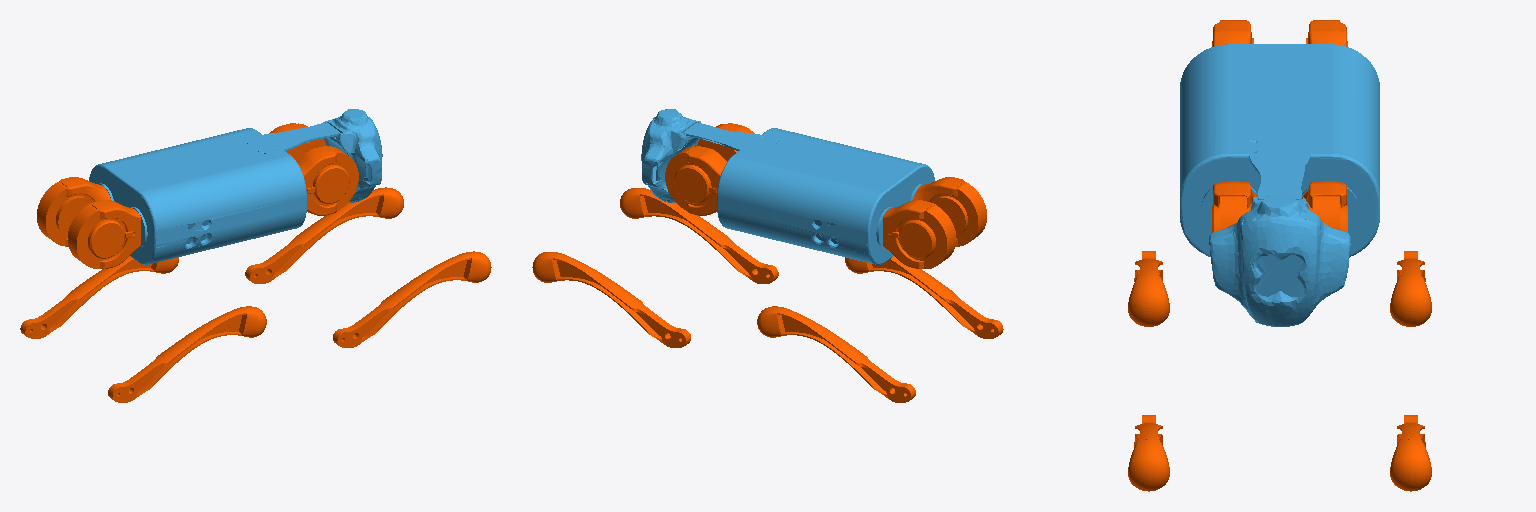
--- What the picture shows (computed from the rendered views, not written in the file) ---
The picture shows the robot from 3 angles, left to right: view 1: azimuth 30°, elevation 25°; view 2: azimuth 150°, elevation 25°; view 3: azimuth 270°, elevation 25°; orthographic projection.
Robot: robot — 19 links, 18 joints (12 revolute, 5 fixed, 1 floating); root link world_base; default pose: joints at zero except 4 at the middle of their limits (FL_calf_joint = -1.85, RL_calf_joint = -1.85, FR_calf_joint = -1.85, RR_calf_joint = -1.85).
Visible links, largest first — view 1: base, RR_hip, RR_calf, FR_calf, FL_calf, FR_hip, RL_calf, RL_hip, FL_hip; view 2: base, RL_hip, RL_calf, FL_calf, FR_calf, FL_hip, RR_calf, RR_hip, FR_hip; view 3: base, FL_calf, FR_calf, RL_calf, RR_calf, FL_hip, FR_hip, RL_hip, RR_hip.
Boxes of the visible links, x1,y1,x2,y2 form: base: (89,109,382,264); RR_hip: (68,200,140,268); RR_calf: (108,306,266,402); FR_calf: (333,251,491,347); FL_calf: (245,187,403,283); FR_hip: (297,146,358,215); RL_calf: (20,256,178,338); RL_hip: (37,177,110,246); FL_hip: (269,123,326,161); base: (641,109,934,264); RL_hip: (883,200,955,268); RL_calf: (757,306,915,402); FL_calf: (532,252,690,347); FR_calf: (620,188,778,283); FL_hip: (665,146,726,215); RR_calf: (845,256,1003,338); RR_hip: (913,177,986,246); FR_hip: (697,123,754,160); base: (1180,44,1379,326); FL_calf: (1390,415,1431,491); FR_calf: (1128,415,1169,491); RL_calf: (1390,251,1431,326); RR_calf: (1128,251,1169,326); FL_hip: (1302,181,1347,277); FR_hip: (1212,181,1257,232); RL_hip: (1306,20,1347,46); RR_hip: (1212,20,1253,46).
Size in the robot's own frame: 0.6511 by 0.294 by 0.3019 metres.
9 mesh visuals loaded from 5 distinct referenced files (3 binary STL); not drawn: 4 (reference not matched to a file when rendering).

robot.urdf — robot:
<?xml version="1.0" ?>
<!-- =================================================================================== -->
<!-- |    This document was autogenerated by xacro from robot.xacro                    | -->
<!-- |    EDITING THIS FILE BY HAND IS NOT RECOMMENDED                                 | -->
<!-- =================================================================================== -->
<robot name="robot">
  <mujoco>
    <compiler meshdir = "../meshes" balanceinertia="true" discardvisual="false"/>
  </mujoco>

  <material name="black">
    <color rgba="0.0 0.0 0.0 1.0"/>
  </material>
  <material name="blue">
    <color rgba="0.0 0.0 0.8 1.0"/>
  </material>
  <material name="green">
    <color rgba="0.0 0.8 0.0 1.0"/>
  </material>
  <material name="grey">
    <color rgba="0.2 0.2 0.2 1.0"/>
  </material>
  <material name="silver">
    <color rgba="0.9137254901960784 0.9137254901960784 0.8470588235294118 1.0"/>
  </material>
  <material name="orange">
    <color rgba="1.0 0.4235294117647059 0.0392156862745098 1.0"/>
  </material>
  <material name="brown">
    <color rgba="0.8705882352941177 0.8117647058823529 0.7647058823529411 1.0"/>
  </material>
  <material name="red">
    <color rgba="0.8 0.0 0.0 1.0"/>
  </material>
  <material name="white">
    <color rgba="1.0 1.0 1.0 1.0"/>
  </material>
  <!-- ros_control plugin -->
  <gazebo>
    <plugin filename="liblegged_hw_sim.so" name="gazebo_ros_control">
      <robotNamespace>/</robotNamespace>
      <robotParam>legged_robot_description</robotParam>
      <robotSimType>legged_gazebo/LeggedHWSim</robotSimType>
    </plugin>
  </gazebo>
  <gazebo>
    <plugin filename="libgazebo_ros_p3d.so" name="p3d_base_controller">
      <alwaysOn>true</alwaysOn>
      <updateRate>1000.0</updateRate>
      <bodyName>base</bodyName>
      <topicName>ground_truth/state</topicName>
      <gaussianNoise>0</gaussianNoise>
      <frameName>world</frameName>
      <xyzOffsets>0 0 0</xyzOffsets>
      <rpyOffsets>0 0 0</rpyOffsets>
    </plugin>
  </gazebo>

  <link name="world_base">
    <visual>
      <origin rpy="0 0 0" xyz="0 0 0"/>
      <geometry>
        <box size="0.001 0.001 0.001"/>
      </geometry>
    </visual>
  </link>
  <joint name="floating_base" type="floating">
    <origin rpy="0 0 0" xyz="0 0 0"/>
    <parent link="world_base"/>
    <child link="base"/>
  </joint>

  <link name="base">
    <visual>
      <origin rpy="0 0 0" xyz="0 0 0"/>
      <geometry>
        <mesh filename="../meshes/trunk.stl" scale="1 1 1"/>
      </geometry>
    </visual>
    <collision>
      <origin rpy="0 0 0" xyz="0 0 0"/>
      <geometry>
        <box size="0.3762 0.0935 0.114"/>
      </geometry>
    </collision>
    <inertial>
      <origin rpy="0 0 0" xyz="0.0223 0.002 -0.0005"/>
      <mass value="5.204"/>
      <inertia ixx="0.0168128557" ixy="-0.0002296769" ixz="-0.0002945293" iyy="0.063009565" iyz="-4.18731e-05" izz="0.0716547275"/>
    </inertial>
  </link>
  <!-- Imu is fixed to the base link -->
  <joint name="imu_joint" type="fixed">
    <origin rpy="0. 0. 0." xyz="0. 0. 0."/>
    <parent link="base"/>
    <child link="imu"/>
  </joint>
  <!-- Imu link -->
  <link name="imu">
    <inertial>
      <mass value="0.01"/>
      <origin rpy="0 0 0" xyz="0 0 0"/>
      <inertia ixx="0.000001" ixy="0" ixz="0" iyy="0.000001" iyz="0" izz="0.000001"/>
    </inertial>
    <visual>
      <origin rpy="0 0 0" xyz="0 0 0"/>
      <geometry>
        <box size="0.015 0.015 0.004"/>
      </geometry>
    </visual>
    <material name="orange">
      <color rgba="255 108 10 255"/>
    </material>
  </link>
  <gazebo reference="imu">
    <material>Gazebo/Orange</material>
  </gazebo>
  <gazebo reference="imu_joint">
    <disableFixedJointLumping>true</disableFixedJointLumping>
  </gazebo>
  <joint name="FL_hip_joint" type="revolute">
    <origin rpy="0 0 0" xyz="0.1881 0.04675 0"/>
    <parent link="base"/>
    <child link="FL_hip"/>
    <axis xyz="1 0 0"/>
    <dynamics damping="0.01" friction="0.2"/>
    <limit effort="23.7" lower="-0.863" upper="0.863" velocity="30.1"/>
  </joint>
  <link name="FL_hip">
    <visual>
      <origin rpy="0 0 0" xyz="0 0 0"/>
      <geometry>
        <mesh filename="../meshes/hip.stl" scale="1 1 1"/>
      </geometry>
      <material name="orange"/>
    </visual>
    <!-- <collision>
      <origin rpy="1.5707963267948966 0 0" xyz="0 0 0"/>
      <geometry>
        <cylinder length="0.04" radius="0.046"/>
      </geometry>
    </collision> -->
    <inertial>
      <origin rpy="0 0 0" xyz="-0.005657 -0.008752 -0.000102"/>
      <mass value="0.591"/>
      <inertia ixx="0.000334008405" ixy="-1.0826066e-05" ixz="1.290732e-06" iyy="0.000619101213" iyz="1.643194e-06" izz="0.00040057614"/>
    </inertial>
  </link>
  <joint name="FL_thigh_joint" type="revolute">
    <origin rpy="0 0 0" xyz="0 0.08 0"/>
    <parent link="FL_hip"/>
    <child link="FL_thigh"/>
    <axis xyz="0 1 0"/>
    <dynamics damping="0.01" friction="0.2"/>
    <limit effort="23.7" lower="-0.686" upper="4.501" velocity="30.1"/>
  </joint>
  <link name="FL_thigh">
    <visual>
      <origin rpy="0 0 0" xyz="0 0 0"/>
      <geometry>
        <mesh filename="../meshes/thigh.stl" scale="1 1 1"/>
      </geometry>
      <material name="orange"/>
    </visual>
    <collision>
      <origin rpy="0 1.6707963267948966 0" xyz="-0.015 0 -0.1065"/>
      <geometry>
        <box size="0.213 0.0245 0.034"/>
      </geometry>
    </collision>
    <!-- <collision>
      <origin rpy="1.5707963267948966 0 0" xyz="0 -0.008 0"/>
      <geometry>
        <cylinder length="0.032" radius="0.041"/>
      </geometry>
    </collision> -->
    <inertial>
      <origin rpy="0 0 0" xyz="-0.003342 -0.018054 -0.033451"/>
      <mass value="0.92"/>
      <inertia ixx="0.004431760472" ixy="5.7496807e-05" ixz="-0.000218457134" iyy="0.004485671726" iyz="0.000572001265" izz="0.000740309489"/>
    </inertial>
  </link>
  <joint name="FL_calf_joint" type="revolute">
    <origin rpy="0 0 0" xyz="0 0 -0.213"/>
    <parent link="FL_thigh"/>
    <child link="FL_calf"/>
    <axis xyz="0 1 0"/>
    <dynamics damping="0.01" friction="0.2"/>
    <limit effort="35.55" lower="-2.818" upper="-0.888" velocity="20.06"/>
  </joint>
  <link name="FL_calf">
    <visual>
      <origin rpy="0 0 0" xyz="0 0 0"/>
      <geometry>
        <mesh filename="../meshes/calf.stl" scale="1 1 1"/>
      </geometry>
      <material name="orange"/>
    </visual>
    <collision>
      <origin rpy="0 1.5707963267948966 0" xyz="0.0 0 -0.1065"/>
      <geometry>
        <box size="0.213 0.016 0.016"/>
      </geometry>
    </collision>
    <inertial>
      <origin rpy="0 0 0" xyz="0.006197 0.001408 -0.116695"/>
      <mass value="0.135862"/>
      <inertia ixx="0.001088793059" ixy="-2.55679e-07" ixz="7.117814e-06" iyy="0.001100428748" iyz="2.077264e-06" izz="2.4787446e-05"/>
    </inertial>
  </link>
  <joint dont_collapse="true" name="FL_foot_fixed" type="fixed">
    <origin rpy="0 0 0" xyz="0 0 -0.213"/>
    <parent link="FL_calf"/>
    <child link="FL_foot"/>
  </joint>
  <link name="FL_foot">
    <visual>
      <origin rpy="0 0 0" xyz="0 0 0"/>
      <geometry>
        <sphere radius="0.01"/>
      </geometry>
      <material name="orange"/>
    </visual>
    <collision>
      <origin rpy="0 0 0" xyz="0 0 0"/>
      <geometry>
        <sphere radius="0.02"/>
      </geometry>
    </collision>
    <inertial>
      <mass value="0.06"/>
      <inertia ixx="9.600000000000001e-06" ixy="0.0" ixz="0.0" iyy="9.600000000000001e-06" iyz="0.0" izz="9.600000000000001e-06"/>
    </inertial>
  </link>
  <gazebo reference="FL_foot_fixed">
    <disableFixedJointLumping>true</disableFixedJointLumping>
  </gazebo>
  <gazebo reference="FL_hip">
    <mu1>0.2</mu1>
    <mu2>0.2</mu2>
    <material>Gazebo/DarkGrey</material>
  </gazebo>
  <gazebo reference="FL_thigh">
    <mu1>0.2</mu1>
    <mu2>0.2</mu2>
    <self_collide>0</self_collide>
    <material>Gazebo/DarkGrey</material>
    <kp value="1000000.0"/>
    <kd value="100.0"/>
  </gazebo>
  <gazebo reference="FL_calf">
    <mu1>0.6</mu1>
    <mu2>0.6</mu2>
    <self_collide>1</self_collide>
  </gazebo>
  <gazebo reference="FL_foot">
    <mu1>0.6</mu1>
    <mu2>0.6</mu2>
    <self_collide>1</self_collide>
    <material>Gazebo/DarkGrey</material>
    <kp value="1000000.0"/>
    <kd value="100.0"/>
  </gazebo>
  <transmission name="FL_HAA_tran">
    <type>transmission_interface/SimpleTransmission</type>
    <joint name="FL_HAA">
      <hardwareInterface>hardware_interface/EffortJointInterface</hardwareInterface>
    </joint>
    <actuator name="FL_HAA_motor">
      <hardwareInterface>hardware_interface/EffortJointInterface</hardwareInterface>
      <mechanicalReduction>1</mechanicalReduction>
    </actuator>
  </transmission>
  <transmission name="FL_HFE_tran">
    <type>transmission_interface/SimpleTransmission</type>
    <joint name="FL_HFE">
      <hardwareInterface>hardware_interface/EffortJointInterface</hardwareInterface>
    </joint>
    <actuator name="FL_HFE_motor">
      <hardwareInterface>hardware_interface/EffortJointInterface</hardwareInterface>
      <mechanicalReduction>1</mechanicalReduction>
    </actuator>
  </transmission>
  <transmission name="FL_KFE_tran">
    <type>transmission_interface/SimpleTransmission</type>
    <joint name="FL_KFE">
      <hardwareInterface>hardware_interface/EffortJointInterface</hardwareInterface>
    </joint>
    <actuator name="FL_KFE_motor">
      <hardwareInterface>hardware_interface/EffortJointInterface</hardwareInterface>
      <mechanicalReduction>1</mechanicalReduction>
    </actuator>
  </transmission>
  <joint name="RL_hip_joint" type="revolute">
    <origin rpy="0 0 0" xyz="-0.1881 0.04675 0"/>
    <parent link="base"/>
    <child link="RL_hip"/>
    <axis xyz="1 0 0"/>
    <dynamics damping="0.01" friction="0.2"/>
    <limit effort="23.7" lower="-0.863" upper="0.863" velocity="30.1"/>
  </joint>
  <link name="RL_hip">
    <visual>
      <origin rpy="0 3.141592653589793 0" xyz="0 0 0"/>
      <geometry>
        <mesh filename="../meshes/hip.stl" scale="1 1 1"/>
      </geometry>
      <material name="orange"/>
    </visual>
    <!-- <collision>
      <origin rpy="1.5707963267948966 0 0" xyz="0 0 0"/>
      <geometry>
        <cylinder length="0.04" radius="0.046"/>
      </geometry>
    </collision> -->
    <inertial>
      <origin rpy="0 0 0" xyz="0.005657 -0.008752 -0.000102"/>
      <mass value="0.591"/>
      <inertia ixx="0.000334008405" ixy="1.0826066e-05" ixz="-1.290732e-06" iyy="0.000619101213" iyz="1.643194e-06" izz="0.00040057614"/>
    </inertial>
  </link>
  <joint name="RL_thigh_joint" type="revolute">
    <origin rpy="0 0 0" xyz="0 0.08 0"/>
    <parent link="RL_hip"/>
    <child link="RL_thigh"/>
    <axis xyz="0 1 0"/>
    <dynamics damping="0.01" friction="0.2"/>
    <limit effort="23.7" lower="-0.686" upper="4.501" velocity="30.1"/>
  </joint>
  <link name="RL_thigh">
    <visual>
      <origin rpy="0 0 0" xyz="0 0 0"/>
      <geometry>
        <mesh filename="../meshes/thigh.stl" scale="1 1 1"/>
      </geometry>
      <material name="orange"/>
    </visual>
    <collision>
      <origin rpy="0 1.6707963267948966 0" xyz="-0.015 0 -0.1065"/>
      <geometry>
        <box size="0.213 0.0245 0.034"/>
      </geometry>
    </collision>
    <!-- <collision>
      <origin rpy="1.5707963267948966 0 0" xyz="0 -0.008 0"/>
      <geometry>
        <cylinder length="0.032" radius="0.041"/>
      </geometry>
    </collision> -->
    <inertial>
      <origin rpy="0 0 0" xyz="-0.003342 -0.018054 -0.033451"/>
      <mass value="0.92"/>
      <inertia ixx="0.004431760472" ixy="5.7496807e-05" ixz="-0.000218457134" iyy="0.004485671726" iyz="0.000572001265" izz="0.000740309489"/>
    </inertial>
  </link>
  <joint name="RL_calf_joint" type="revolute">
    <origin rpy="0 0 0" xyz="0 0 -0.213"/>
    <parent link="RL_thigh"/>
    <child link="RL_calf"/>
    <axis xyz="0 1 0"/>
    <dynamics damping="0.01" friction="0.2"/>
    <limit effort="35.55" lower="-2.818" upper="-0.888" velocity="20.06"/>
  </joint>
  <link name="RL_calf">
    <visual>
      <origin rpy="0 0 0" xyz="0 0 0"/>
      <geometry>
        <mesh filename="../meshes/calf.stl" scale="1 1 1"/>
      </geometry>
      <material name="orange"/>
    </visual>
    <collision>
      <origin rpy="0 1.5707963267948966 0" xyz="0.0 0 -0.1065"/>
      <geometry>
        <box size="0.213 0.016 0.016"/>
      </geometry>
    </collision>
    <inertial>
      <origin rpy="0 0 0" xyz="0.006197 0.001408 -0.116695"/>
      <mass value="0.135862"/>
      <inertia ixx="0.001088793059" ixy="-2.55679e-07" ixz="7.117814e-06" iyy="0.001100428748" iyz="2.077264e-06" izz="2.4787446e-05"/>
    </inertial>
  </link>
  <joint dont_collapse="true" name="RL_foot_fixed" type="fixed">
    <origin rpy="0 0 0" xyz="0 0 -0.213"/>
    <parent link="RL_calf"/>
    <child link="RL_foot"/>
  </joint>
  <link name="RL_foot">
    <visual>
      <origin rpy="0 0 0" xyz="0 0 0"/>
      <geometry>
        <sphere radius="0.01"/>
      </geometry>
      <material name="orange"/>
    </visual>
    <collision>
      <origin rpy="0 0 0" xyz="0 0 0"/>
      <geometry>
        <sphere radius="0.02"/>
      </geometry>
    </collision>
    <inertial>
      <mass value="0.06"/>
      <inertia ixx="9.600000000000001e-06" ixy="0.0" ixz="0.0" iyy="9.600000000000001e-06" iyz="0.0" izz="9.600000000000001e-06"/>
    </inertial>
  </link>
  <gazebo reference="RL_foot_fixed">
    <disableFixedJointLumping>true</disableFixedJointLumping>
  </gazebo>
  <gazebo reference="RL_hip">
    <mu1>0.2</mu1>
    <mu2>0.2</mu2>
    <material>Gazebo/DarkGrey</material>
  </gazebo>
  <gazebo reference="RL_thigh">
    <mu1>0.2</mu1>
    <mu2>0.2</mu2>
    <self_collide>0</self_collide>
    <material>Gazebo/DarkGrey</material>
    <kp value="1000000.0"/>
    <kd value="100.0"/>
  </gazebo>
  <gazebo reference="RL_calf">
    <mu1>0.6</mu1>
    <mu2>0.6</mu2>
    <self_collide>1</self_collide>
  </gazebo>
  <gazebo reference="RL_foot">
    <mu1>0.6</mu1>
    <mu2>0.6</mu2>
    <self_collide>1</self_collide>
    <material>Gazebo/DarkGrey</material>
    <kp value="1000000.0"/>
    <kd value="100.0"/>
  </gazebo>
  <transmission name="RL_HAA_tran">
    <type>transmission_interface/SimpleTransmission</type>
    <joint name="RL_HAA">
      <hardwareInterface>hardware_interface/EffortJointInterface</hardwareInterface>
    </joint>
    <actuator name="RL_HAA_motor">
      <hardwareInterface>hardware_interface/EffortJointInterface</hardwareInterface>
      <mechanicalReduction>1</mechanicalReduction>
    </actuator>
  </transmission>
  <transmission name="RL_HFE_tran">
    <type>transmission_interface/SimpleTransmission</type>
    <joint name="RL_HFE">
      <hardwareInterface>hardware_interface/EffortJointInterface</hardwareInterface>
    </joint>
    <actuator name="RL_HFE_motor">
      <hardwareInterface>hardware_interface/EffortJointInterface</hardwareInterface>
      <mechanicalReduction>1</mechanicalReduction>
    </actuator>
  </transmission>
  <transmission name="RL_KFE_tran">
    <type>transmission_interface/SimpleTransmission</type>
    <joint name="RL_KFE">
      <hardwareInterface>hardware_interface/EffortJointInterface</hardwareInterface>
    </joint>
    <actuator name="RL_KFE_motor">
      <hardwareInterface>hardware_interface/EffortJointInterface</hardwareInterface>
      <mechanicalReduction>1</mechanicalReduction>
    </actuator>
  </transmission>
  <joint name="FR_hip_joint" type="revolute">
    <origin rpy="0 0 0" xyz="0.1881 -0.04675 0"/>
    <parent link="base"/>
    <child link="FR_hip"/>
    <axis xyz="1 0 0"/>
    <dynamics damping="0.01" friction="0.2"/>
    <limit effort="23.7" lower="-0.863" upper="0.863" velocity="30.1"/>
  </joint>
  <link name="FR_hip">
    <visual>
      <origin rpy="3.141592653589793 0 0" xyz="0 0 0"/>
      <geometry>
        <mesh filename="../meshes/hip.stl" scale="1 1 1"/>
      </geometry>
      <material name="orange"/>
    </visual>
    <!-- <collision>
      <origin rpy="1.5707963267948966 0 0" xyz="0 0 0"/>
      <geometry>
        <cylinder length="0.04" radius="0.046"/>
      </geometry>
    </collision> -->
    <inertial>
      <origin rpy="0 0 0" xyz="-0.005657 0.008752 -0.000102"/>
      <mass value="0.591"/>
      <inertia ixx="0.000334008405" ixy="1.0826066e-05" ixz="1.290732e-06" iyy="0.000619101213" iyz="-1.643194e-06" izz="0.00040057614"/>
    </inertial>
  </link>
  <joint name="FR_thigh_joint" type="revolute">
    <origin rpy="0 0 0" xyz="0 -0.08 0"/>
    <parent link="FR_hip"/>
    <child link="FR_thigh"/>
    <axis xyz="0 1 0"/>
    <dynamics damping="0.01" friction="0.2"/>
    <limit effort="23.7" lower="-0.686" upper="4.501" velocity="30.1"/>
  </joint>
  <link name="FR_thigh">
    <visual>
      <origin rpy="0 0 0" xyz="0 0 0"/>
      <geometry>
        <mesh filename="../meshes/thigh_mirror.stl" scale="1 1 1"/>
      </geometry>
      <material name="orange"/>
    </visual>
    <collision>
      <origin rpy="0 1.6707963267948966 0" xyz="-0.015 0 -0.1065"/>
      <geometry>
        <box size="0.213 0.0245 0.034"/>
      </geometry>
    </collision>
    <!-- <collision>
      <origin rpy="1.5707963267948966 0 0" xyz="0 0.008 0"/>
      <geometry>
        <cylinder length="0.032" radius="0.041"/>
      </geometry>
    </collision> -->
    <inertial>
      <origin rpy="0 0 0" xyz="-0.003342 0.018054 -0.033451"/>
      <mass value="0.92"/>
      <inertia ixx="0.004431760472" ixy="-5.7496807e-05" ixz="-0.000218457134" iyy="0.004485671726" iyz="-0.000572001265" izz="0.000740309489"/>
    </inertial>
  </link>
  <joint name="FR_calf_joint" type="revolute">
    <origin rpy="0 0 0" xyz="0 0 -0.213"/>
    <parent link="FR_thigh"/>
    <child link="FR_calf"/>
    <axis xyz="0 1 0"/>
    <dynamics damping="0.01" friction="0.2"/>
    <limit effort="35.55" lower="-2.818" upper="-0.888" velocity="20.06"/>
  </joint>
  <link name="FR_calf">
    <visual>
      <origin rpy="0 0 0" xyz="0 0 0"/>
      <geometry>
        <mesh filename="../meshes/calf.stl" scale="1 1 1"/>
      </geometry>
      <material name="orange"/>
    </visual>
    <collision>
      <origin rpy="0 1.5707963267948966 0" xyz="0.0 0 -0.1065"/>
      <geometry>
        <box size="0.213 0.016 0.016"/>
      </geometry>
    </collision>
    <inertial>
      <origin rpy="0 0 0" xyz="0.006197 0.001408 -0.116695"/>
      <mass value="0.135862"/>
      <inertia ixx="0.001088793059" ixy="-2.55679e-07" ixz="7.117814e-06" iyy="0.001100428748" iyz="2.077264e-06" izz="2.4787446e-05"/>
    </inertial>
  </link>
  <joint dont_collapse="true" name="FR_foot_fixed" type="fixed">
    <origin rpy="0 0 0" xyz="0 0 -0.213"/>
    <parent link="FR_calf"/>
    <child link="FR_foot"/>
  </joint>
  <link name="FR_foot">
    <visual>
      <origin rpy="0 0 0" xyz="0 0 0"/>
      <geometry>
        <sphere radius="0.01"/>
      </geometry>
      <material name="orange"/>
    </visual>
    <collision>
      <origin rpy="0 0 0" xyz="0 0 0"/>
      <geometry>
        <sphere radius="0.02"/>
      </geometry>
    </collision>
    <inertial>
      <mass value="0.06"/>
      <inertia ixx="9.600000000000001e-06" ixy="0.0" ixz="0.0" iyy="9.600000000000001e-06" iyz="0.0" izz="9.600000000000001e-06"/>
    </inertial>
  </link>
  <gazebo reference="FR_foot_fixed">
    <disableFixedJointLumping>true</disableFixedJointLumping>
  </gazebo>
  <gazebo reference="FR_hip">
    <mu1>0.2</mu1>
    <mu2>0.2</mu2>
    <material>Gazebo/DarkGrey</material>
  </gazebo>
  <gazebo reference="FR_thigh">
    <mu1>0.2</mu1>
    <mu2>0.2</mu2>
    <self_collide>0</self_collide>
    <material>Gazebo/DarkGrey</material>
    <kp value="1000000.0"/>
    <kd value="100.0"/>
  </gazebo>
  <gazebo reference="FR_calf">
    <mu1>0.6</mu1>
    <mu2>0.6</mu2>
    <self_collide>1</self_collide>
  </gazebo>
  <gazebo reference="FR_foot">
    <mu1>0.6</mu1>
    <mu2>0.6</mu2>
    <self_collide>1</self_collide>
    <material>Gazebo/DarkGrey</material>
    <kp value="1000000.0"/>
    <kd value="100.0"/>
  </gazebo>
  <transmission name="FR_HAA_tran">
    <type>transmission_interface/SimpleTransmission</type>
    <joint name="FR_HAA">
      <hardwareInterface>hardware_interface/EffortJointInterface</hardwareInterface>
    </joint>
    <actuator name="FR_HAA_motor">
      <hardwareInterface>hardware_interface/EffortJointInterface</hardwareInterface>
      <mechanicalReduction>1</mechanicalReduction>
    </actuator>
  </transmission>
  <transmission name="FR_HFE_tran">
    <type>transmission_interface/SimpleTransmission</type>
    <joint name="FR_HFE">
      <hardwareInterface>hardware_interface/EffortJointInterface</hardwareInterface>
    </joint>
    <actuator name="FR_HFE_motor">
      <hardwareInterface>hardware_interface/EffortJointInterface</hardwareInterface>
      <mechanicalReduction>1</mechanicalReduction>
    </actuator>
  </transmission>
  <transmission name="FR_KFE_tran">
    <type>transmission_interface/SimpleTransmission</type>
    <joint name="FR_KFE">
      <hardwareInterface>hardware_interface/EffortJointInterface</hardwareInterface>
    </joint>
    <actuator name="FR_KFE_motor">
      <hardwareInterface>hardware_interface/EffortJointInterface</hardwareInterface>
      <mechanicalReduction>1</mechanicalReduction>
    </actuator>
  </transmission>
  <joint name="RR_hip_joint" type="revolute">
    <origin rpy="0 0 0" xyz="-0.1881 -0.04675 0"/>
    <parent link="base"/>
    <child link="RR_hip"/>
    <axis xyz="1 0 0"/>
    <dynamics damping="0.01" friction="0.2"/>
    <limit effort="23.7" lower="-0.863" upper="0.863" velocity="30.1"/>
  </joint>
  <link name="RR_hip">
    <visual>
      <origin rpy="3.141592653589793 3.141592653589793 0" xyz="0 0 0"/>
      <geometry>
        <mesh filename="../meshes/hip.stl" scale="1 1 1"/>
      </geometry>
      <material name="orange"/>
    </visual>
    <!-- <collision>
      <origin rpy="1.5707963267948966 0 0" xyz="0 0 0"/>
      <geometry>
        <cylinder length="0.04" radius="0.046"/>
      </geometry>
    </collision> -->
    <inertial>
      <origin rpy="0 0 0" xyz="0.005657 0.008752 -0.000102"/>
      <mass value="0.591"/>
      <inertia ixx="0.000334008405" ixy="-1.0826066e-05" ixz="-1.290732e-06" iyy="0.000619101213" iyz="-1.643194e-06" izz="0.00040057614"/>
    </inertial>
  </link>
  <joint name="RR_thigh_joint" type="revolute">
    <origin rpy="0 0 0" xyz="0 -0.08 0"/>
    <parent link="RR_hip"/>
    <child link="RR_thigh"/>
    <axis xyz="0 1 0"/>
    <dynamics damping="0.01" friction="0.2"/>
    <limit effort="23.7" lower="-0.686" upper="4.501" velocity="30.1"/>
  </joint>
  <link name="RR_thigh">
    <visual>
      <origin rpy="0 0 0" xyz="0 0 0"/>
      <geometry>
        <mesh filename="../meshes/thigh_mirror.stl" scale="1 1 1"/>
      </geometry>
      <material name="orange"/>
    </visual>
    <collision>
      <origin rpy="0 1.6707963267948966 0" xyz="-0.015 0 -0.1065"/>
      <geometry>
        <box size="0.213 0.0245 0.034"/>
      </geometry>
    </collision>
    <!-- <collision>
      <origin rpy="1.5707963267948966 0 0" xyz="0 0.008 0"/>
      <geometry>
        <cylinder length="0.032" radius="0.041"/>
      </geometry>
    </collision> -->
    <inertial>
      <origin rpy="0 0 0" xyz="-0.003342 0.018054 -0.033451"/>
      <mass value="0.92"/>
      <inertia ixx="0.004431760472" ixy="-5.7496807e-05" ixz="-0.000218457134" iyy="0.004485671726" iyz="-0.000572001265" izz="0.000740309489"/>
    </inertial>
  </link>
  <joint name="RR_calf_joint" type="revolute">
    <origin rpy="0 0 0" xyz="0 0 -0.213"/>
    <parent link="RR_thigh"/>
    <child link="RR_calf"/>
    <axis xyz="0 1 0"/>
    <dynamics damping="0.01" friction="0.2"/>
    <limit effort="35.55" lower="-2.818" upper="-0.888" velocity="20.06"/>
  </joint>
  <link name="RR_calf">
    <visual>
      <origin rpy="0 0 0" xyz="0 0 0"/>
      <geometry>
        <mesh filename="../meshes/calf.stl" scale="1 1 1"/>
      </geometry>
      <material name="orange"/>
    </visual>
    <collision>
      <origin rpy="0 1.5707963267948966 0" xyz="0.0 0 -0.1065"/>
      <geometry>
        <box size="0.213 0.016 0.016"/>
      </geometry>
    </collision>
    <inertial>
      <origin rpy="0 0 0" xyz="0.006197 0.001408 -0.116695"/>
      <mass value="0.135862"/>
      <inertia ixx="0.001088793059" ixy="-2.55679e-07" ixz="7.117814e-06" iyy="0.001100428748" iyz="2.077264e-06" izz="2.4787446e-05"/>
    </inertial>
  </link>
  <joint dont_collapse="true" name="RR_foot_fixed" type="fixed">
    <origin rpy="0 0 0" xyz="0 0 -0.213"/>
    <parent link="RR_calf"/>
    <child link="RR_foot"/>
  </joint>
  <link name="RR_foot">
    <visual>
      <origin rpy="0 0 0" xyz="0 0 0"/>
      <geometry>
        <sphere radius="0.01"/>
      </geometry>
      <material name="orange"/>
    </visual>
    <collision>
      <origin rpy="0 0 0" xyz="0 0 0"/>
      <geometry>
        <sphere radius="0.02"/>
      </geometry>
    </collision>
    <inertial>
      <mass value="0.06"/>
      <inertia ixx="9.600000000000001e-06" ixy="0.0" ixz="0.0" iyy="9.600000000000001e-06" iyz="0.0" izz="9.600000000000001e-06"/>
    </inertial>
  </link>
  <gazebo reference="RR_foot_fixed">
    <disableFixedJointLumping>true</disableFixedJointLumping>
  </gazebo>
  <gazebo reference="RR_hip">
    <mu1>0.2</mu1>
    <mu2>0.2</mu2>
    <material>Gazebo/DarkGrey</material>
  </gazebo>
  <gazebo reference="RR_thigh">
    <mu1>0.2</mu1>
    <mu2>0.2</mu2>
    <self_collide>0</self_collide>
    <material>Gazebo/DarkGrey</material>
    <kp value="1000000.0"/>
    <kd value="100.0"/>
  </gazebo>
  <gazebo reference="RR_calf">
    <mu1>0.6</mu1>
    <mu2>0.6</mu2>
    <self_collide>1</self_collide>
  </gazebo>
  <gazebo reference="RR_foot">
    <mu1>0.6</mu1>
    <mu2>0.6</mu2>
    <self_collide>1</self_collide>
    <material>Gazebo/DarkGrey</material>
    <kp value="1000000.0"/>
    <kd value="100.0"/>
  </gazebo>
  <transmission name="RR_HAA_tran">
    <type>transmission_interface/SimpleTransmission</type>
    <joint name="RR_HAA">
      <hardwareInterface>hardware_interface/EffortJointInterface</hardwareInterface>
    </joint>
    <actuator name="RR_HAA_motor">
      <hardwareInterface>hardware_interface/EffortJointInterface</hardwareInterface>
      <mechanicalReduction>1</mechanicalReduction>
    </actuator>
  </transmission>
  <transmission name="RR_HFE_tran">
    <type>transmission_interface/SimpleTransmission</type>
    <joint name="RR_HFE">
      <hardwareInterface>hardware_interface/EffortJointInterface</hardwareInterface>
    </joint>
    <actuator name="RR_HFE_motor">
      <hardwareInterface>hardware_interface/EffortJointInterface</hardwareInterface>
      <mechanicalReduction>1</mechanicalReduction>
    </actuator>
  </transmission>
  <transmission name="RR_KFE_tran">
    <type>transmission_interface/SimpleTransmission</type>
    <joint name="RR_KFE">
      <hardwareInterface>hardware_interface/EffortJointInterface</hardwareInterface>
    </joint>
    <actuator name="RR_KFE_motor">
      <hardwareInterface>hardware_interface/EffortJointInterface</hardwareInterface>
      <mechanicalReduction>1</mechanicalReduction>
    </actuator>
  </transmission>
</robot>
